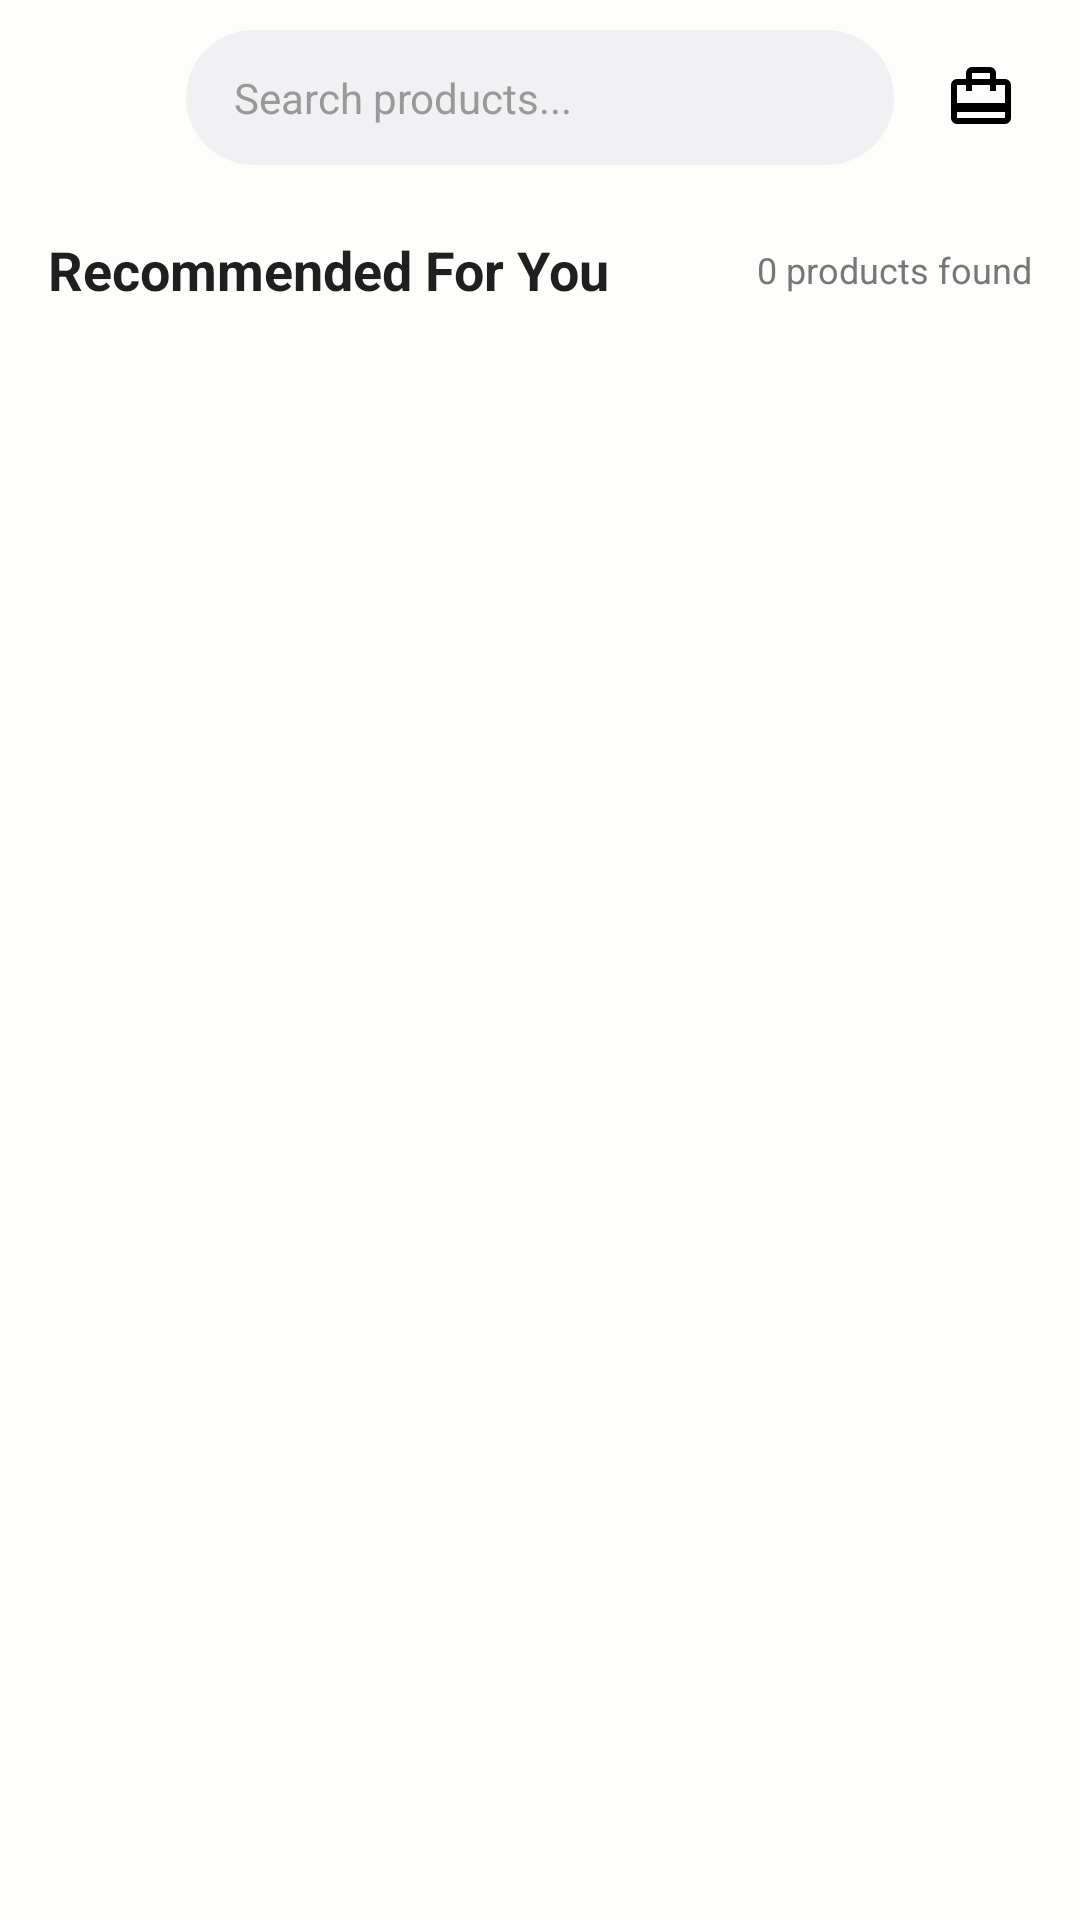

Screen size 1080×1920. Icon name, then its box in pixels as (x1, y1, x2, y2):
Bag: (951, 67, 1011, 124)
